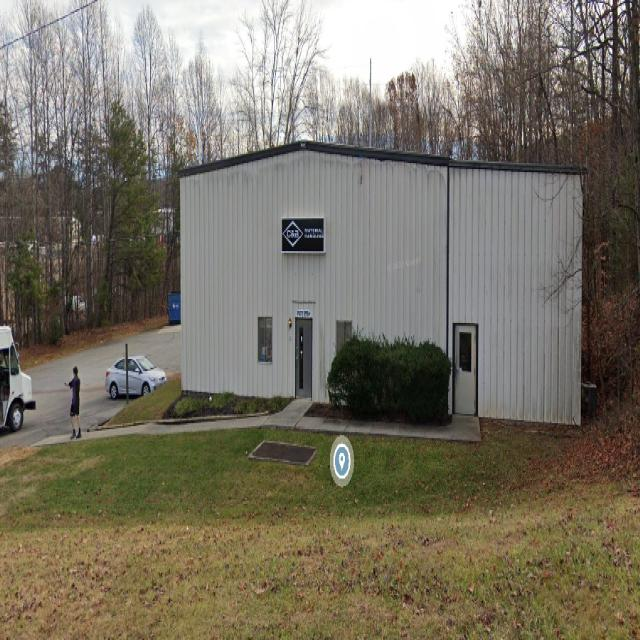House: (176, 142, 590, 436)
